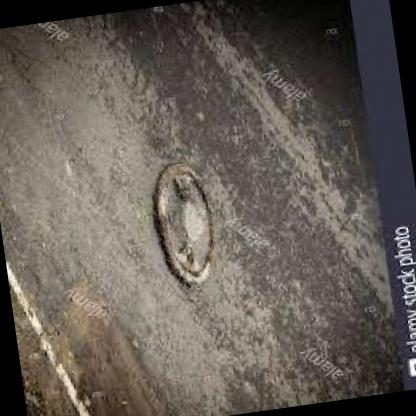manholes: (122, 146, 244, 309)
